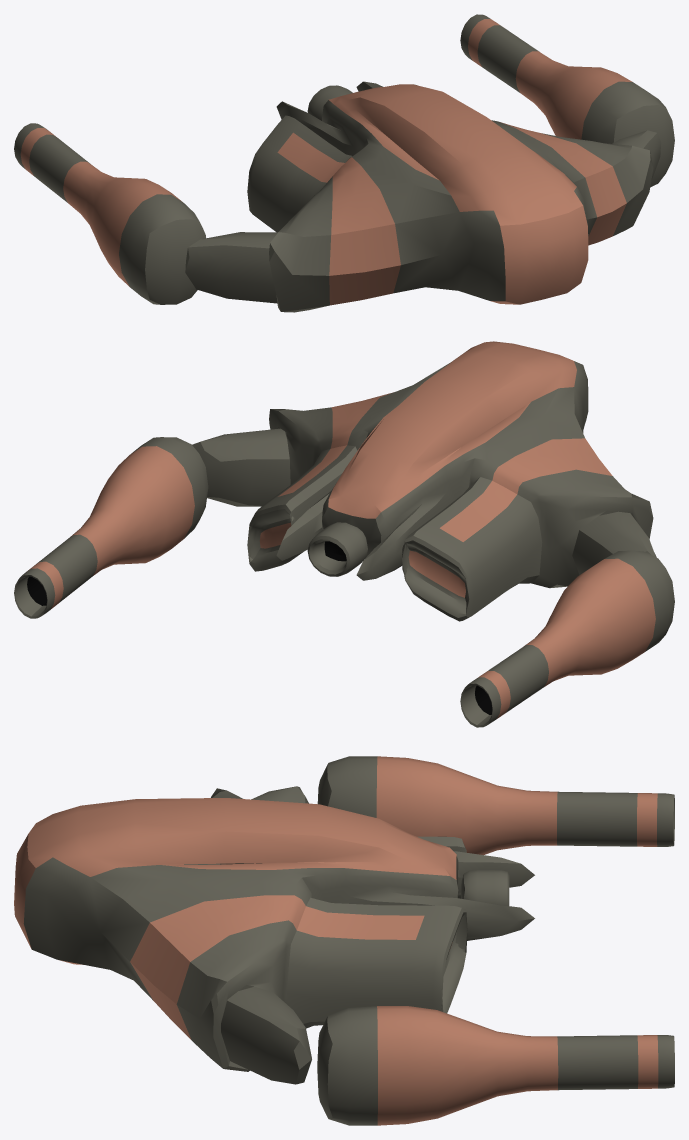
Rendered from Ship_Mesh.fbx.
3 views of the same model, one above another, from view 1: azimuth 30°, elevation 25°; view 2: azimuth 150°, elevation 25°; view 3: azimuth 270°, elevation 25° (orthographic). The views are drawn at different scales.
Parts seen in each view (by area): view 1: Ship_Mesh; view 2: Ship_Mesh; view 3: Ship_Mesh.
Part boxes in pixels (left/top/right/bottom): Ship_Mesh: left=14, top=14, right=674, bottom=312; Ship_Mesh: left=14, top=341, right=674, bottom=727; Ship_Mesh: left=14, top=756, right=674, bottom=1125.
Bounding box in the file's own units: 1067 × 320 × 1022.
